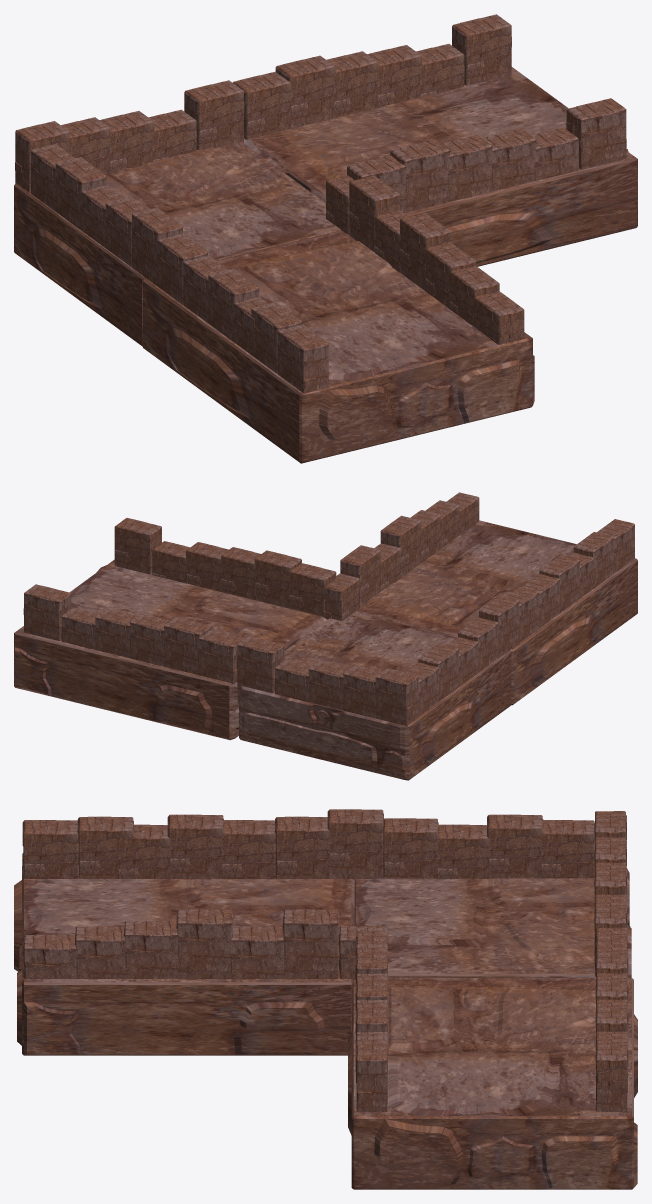
Rendered from Ponte_L_Pequena.fbx.
3 views of the same model, one above another, from view 1: azimuth 30°, elevation 25°; view 2: azimuth 150°, elevation 25°; view 3: azimuth 270°, elevation 25° (orthographic). The views are drawn at different scales.
Visible parts, largest first — view 1: pCube3, pCube5, pCube4, colunas99, colunas110, colunas116, colunas118, colunas106, colunas139, colunas105, colunas107, colunas101 (+26 smaller); view 2: pCube5, pCube4, pCube3, colunas116, colunas112, colunas99, colunas110, colunas106, colunas118, colunas105, colunas103, colunas107 (+26 smaller); view 3: pCube5, pCube3, pCube4, colunas134, colunas125, colunas132, colunas137, colunas128, colunas124, colunas126, colunas139, colunas138 (+23 smaller).
Part boxes in pixels (x1,y1,x2,y2): pCube3: [143, 230, 534, 463]; pCube5: [244, 67, 637, 266]; pCube4: [14, 141, 340, 346]; colunas99: [566, 98, 626, 169]; colunas110: [452, 14, 511, 85]; colunas116: [184, 80, 244, 150]; colunas118: [390, 139, 449, 212]; colunas106: [275, 55, 335, 128]; colunas139: [277, 324, 328, 393]; colunas105: [233, 71, 291, 139]; colunas107: [326, 51, 377, 118]; colunas101: [441, 135, 492, 201]; pCube5: [14, 559, 327, 740]; pCube4: [239, 612, 511, 780]; pCube3: [355, 520, 637, 705]; colunas116: [237, 636, 284, 704]; colunas112: [375, 668, 418, 726]; colunas99: [114, 518, 161, 574]; colunas110: [23, 584, 71, 640]; colunas106: [164, 617, 210, 674]; colunas118: [254, 550, 301, 608]; colunas105: [198, 629, 244, 683]; colunas103: [289, 563, 336, 616]; colunas107: [130, 613, 170, 666]; pCube5: [348, 976, 637, 1189]; pCube3: [14, 865, 354, 1055]; pCube4: [354, 868, 631, 977]; colunas134: [282, 909, 339, 978]; colunas125: [327, 809, 383, 879]; colunas132: [176, 909, 232, 978]; colunas137: [167, 814, 223, 878]; colunas128: [487, 814, 543, 878]; colunas124: [275, 816, 329, 878]; colunas126: [383, 818, 438, 878]; colunas139: [22, 820, 78, 878]; colunas138: [221, 820, 275, 878].
Bounding box in the file's own units: 7.03 × 1.66 × 7.18.
2 materials, 2 textured.
